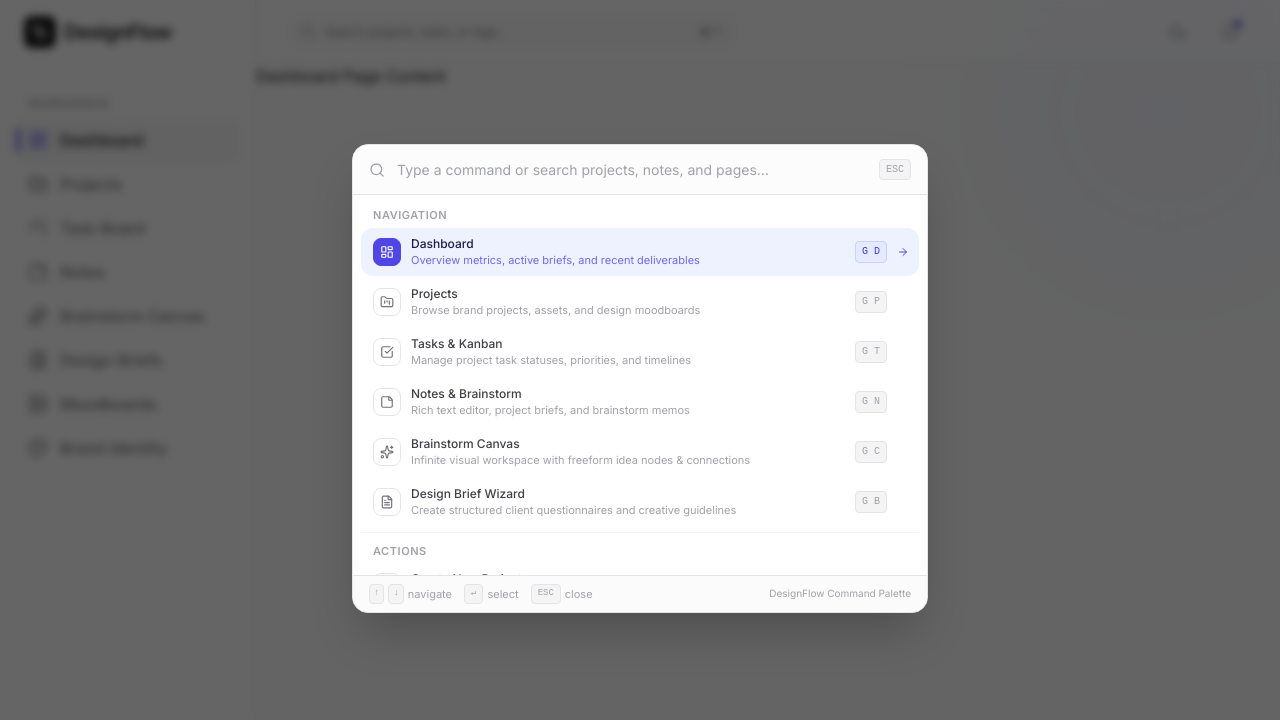
Test case: AppLayout with Command Palette integration › links command palette to core routes and navigates to Projects page
This screenshot has width=1280, height=720.
Click the element with test id "command-item-nav-projects" at (640, 302), box [361,278,919,326]
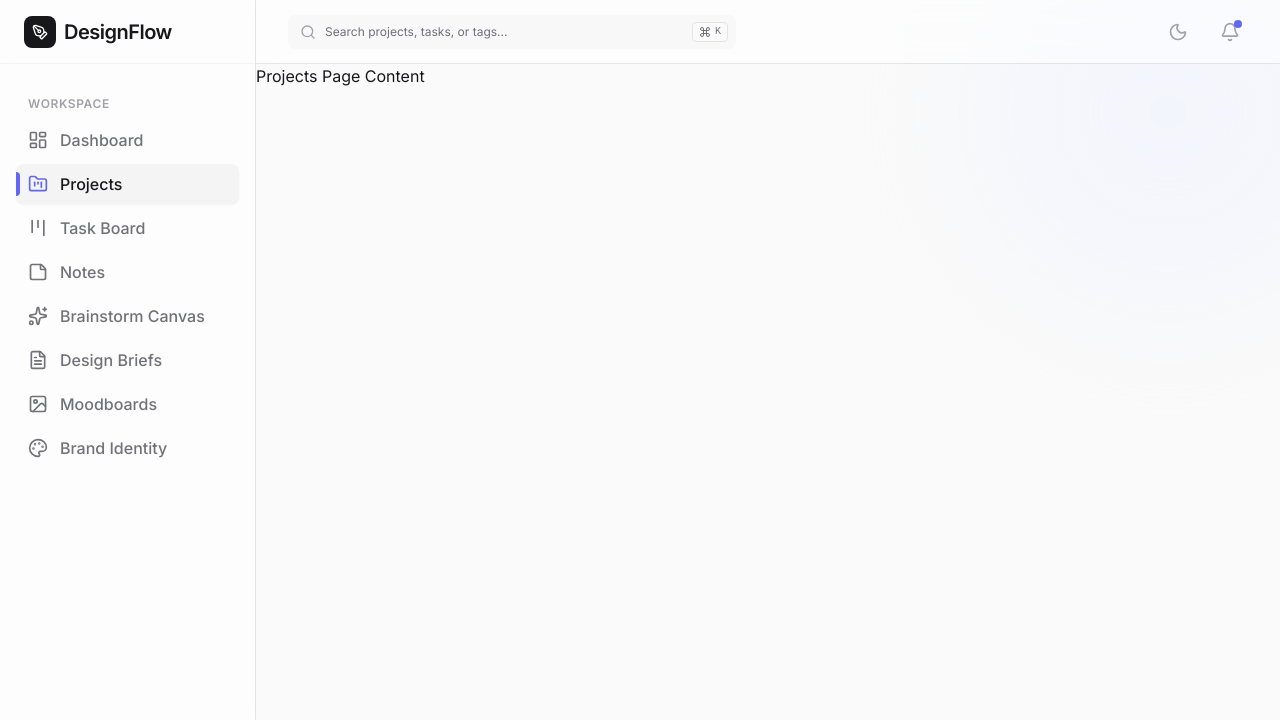
Result: the text "Projects Page Content" is shown at [256,66,425,86]
